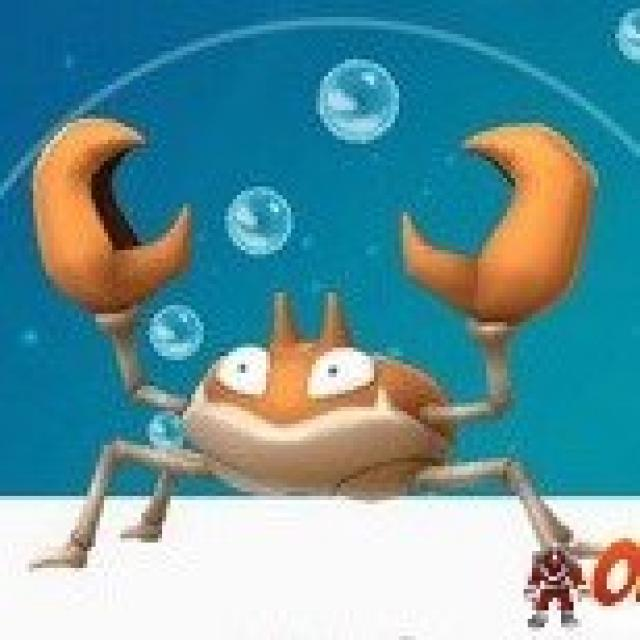Krabby: (14, 112, 587, 571)
